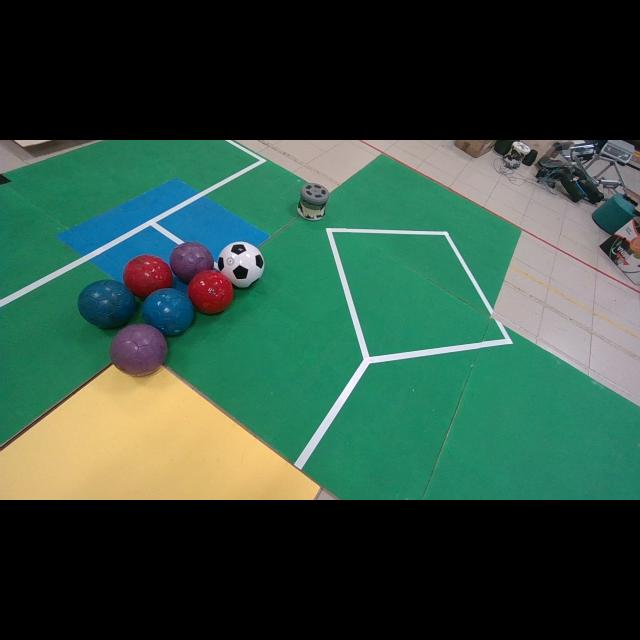B: (78, 281, 136, 329), (142, 288, 192, 335)
P: (110, 324, 168, 376), (170, 241, 214, 282)
R: (122, 255, 172, 299), (188, 270, 234, 314)
